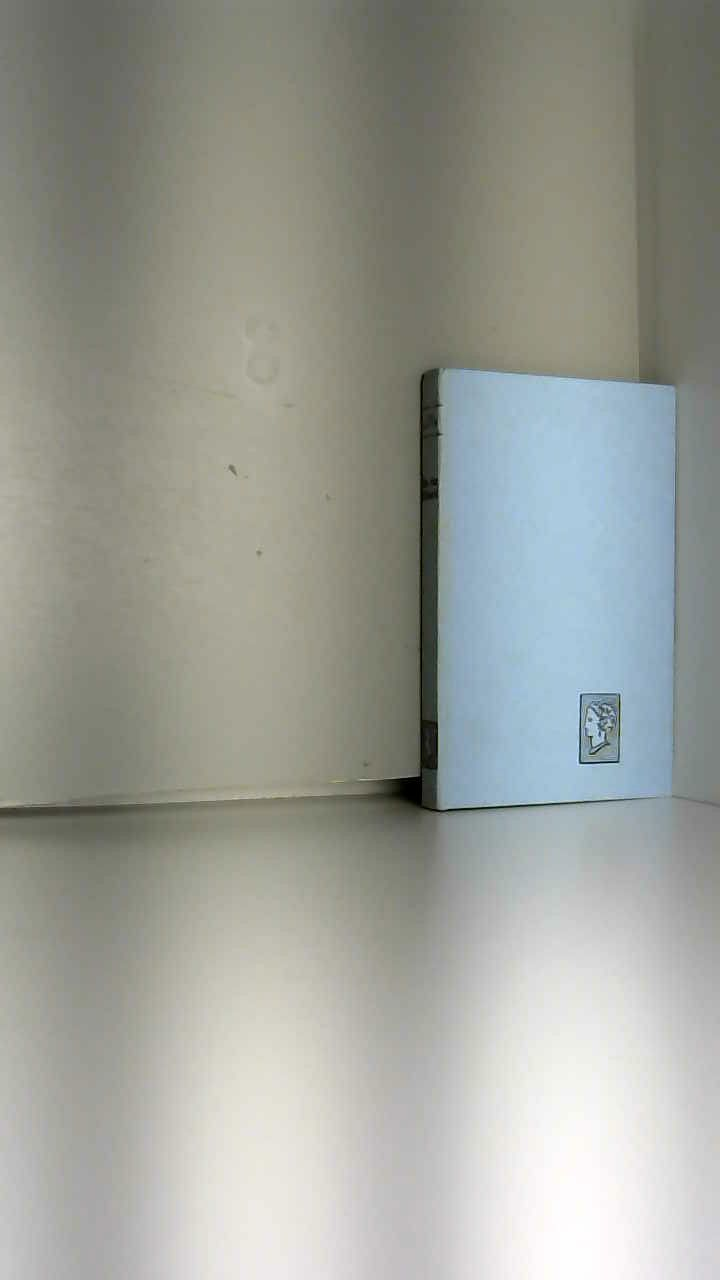book: (390, 340, 720, 838)
